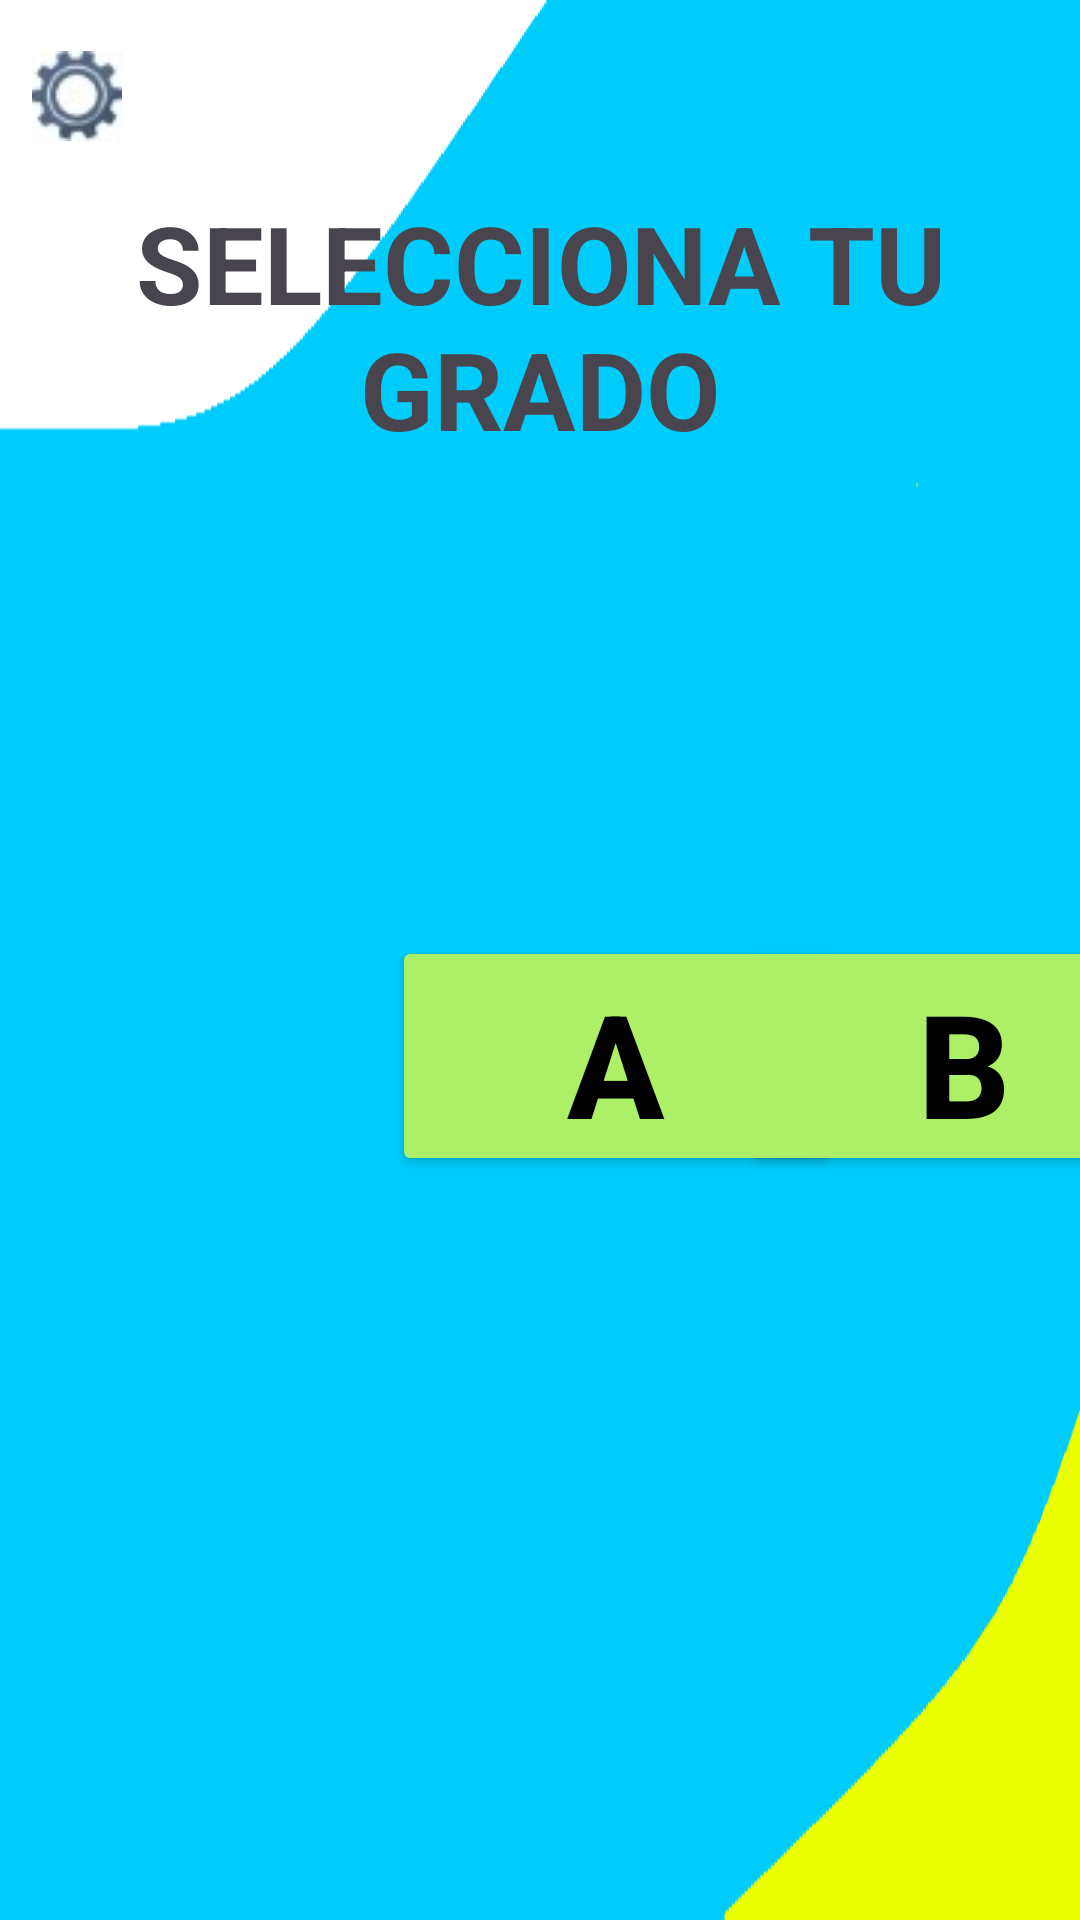

Point at icon controls on the screen. Image size 1080px x 1920px, points as (x=x, y=y).
confi personalizado: (x=77, y=96)
